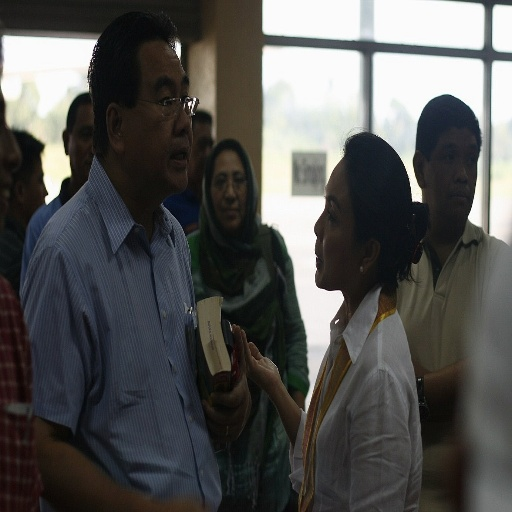hand: (200, 323, 251, 454), (233, 320, 277, 388), (155, 499, 205, 510)
